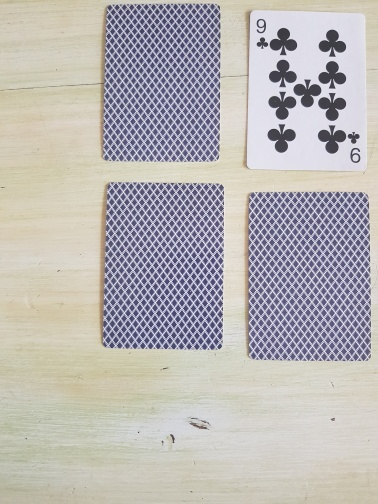nine: (246, 10, 368, 172)
